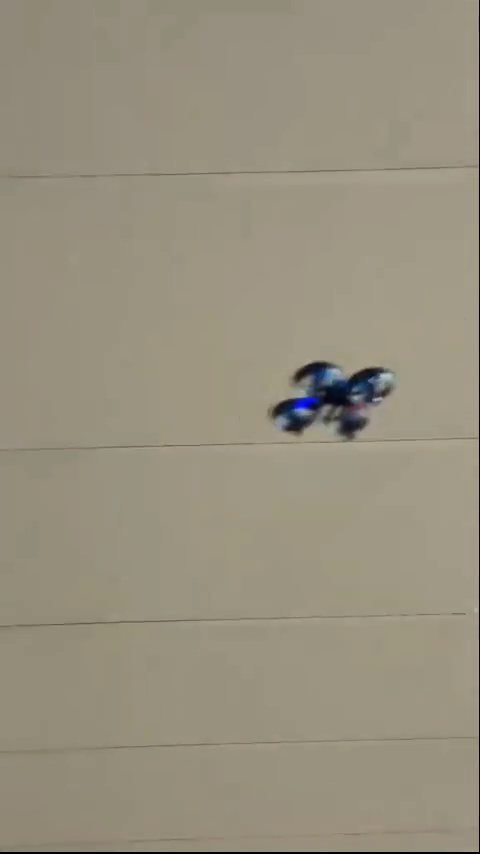drone: (268, 357, 399, 440)
